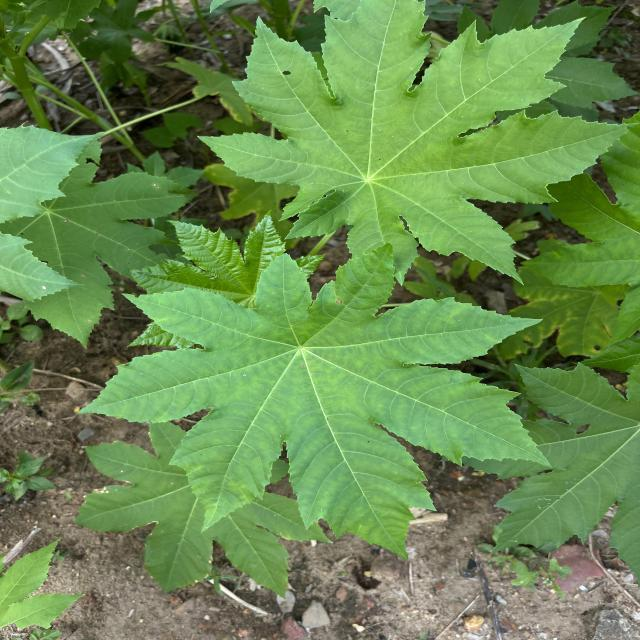Ricinus communis linn: (70, 240, 558, 566), (192, 0, 640, 289)
